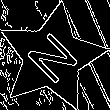N_SE: (20, 25, 84, 90)
